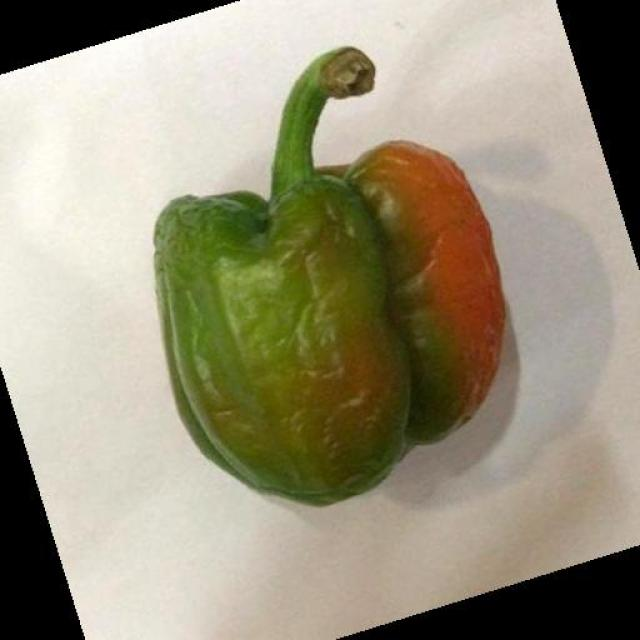Stale_Capsicum: (121, 96, 554, 477)
